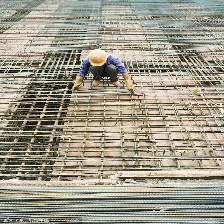helmet: (87, 50, 110, 67)
person: (72, 48, 137, 92)
